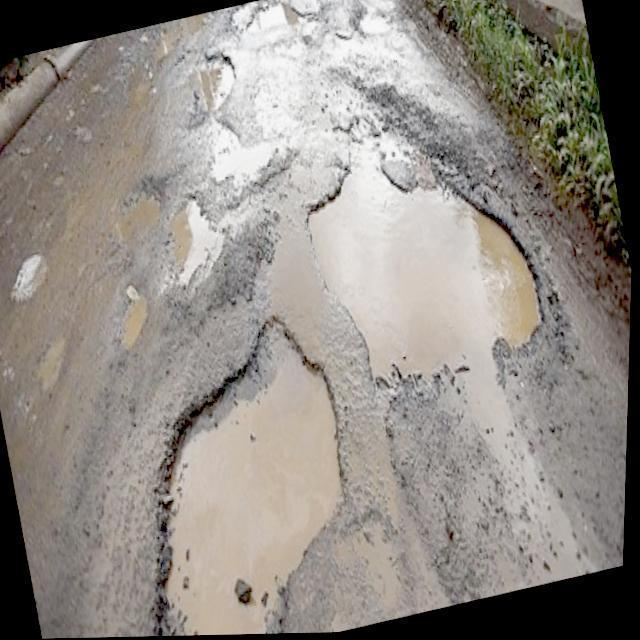Pothole: (306, 107, 544, 392), (155, 324, 344, 637), (163, 194, 226, 288), (120, 188, 163, 242), (118, 291, 154, 345)
